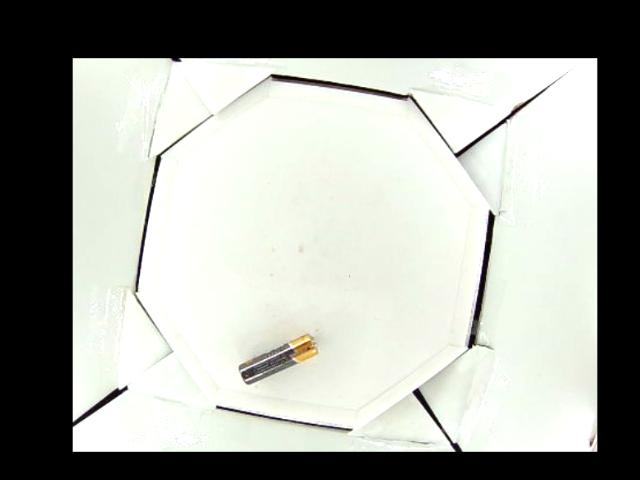Battery: (236, 332, 318, 383)
